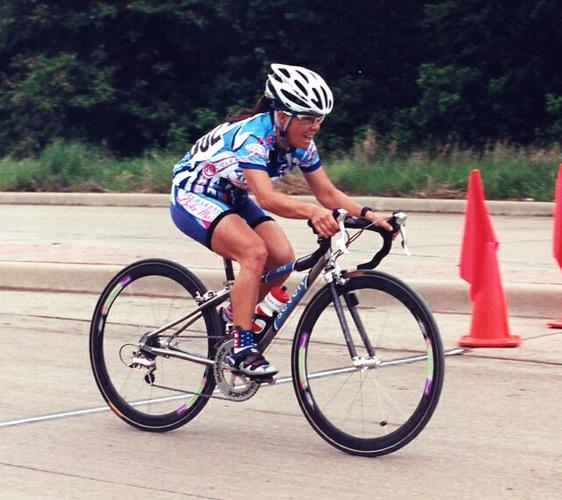person: (168, 60, 394, 381)
